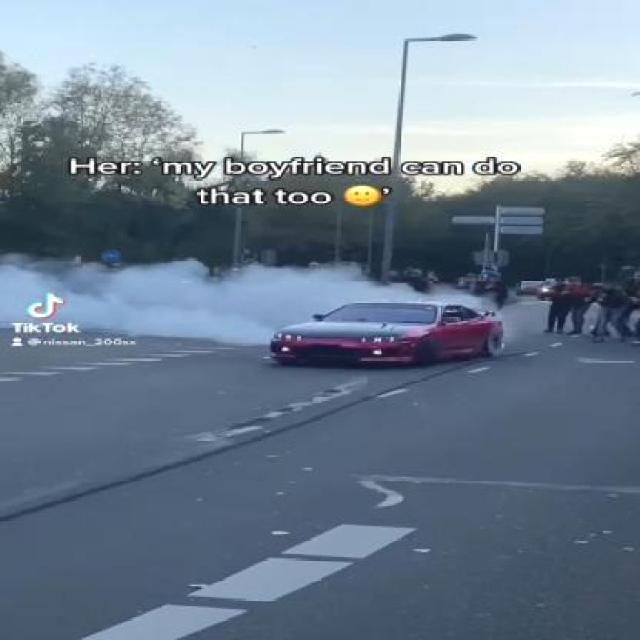car: (271, 299, 513, 368)
